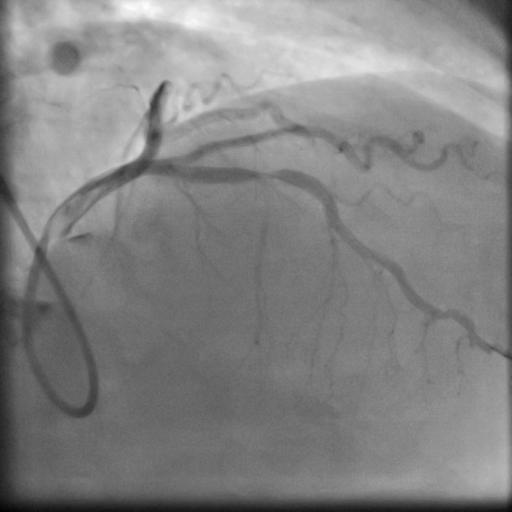Stenosis: (253, 163, 281, 184)
